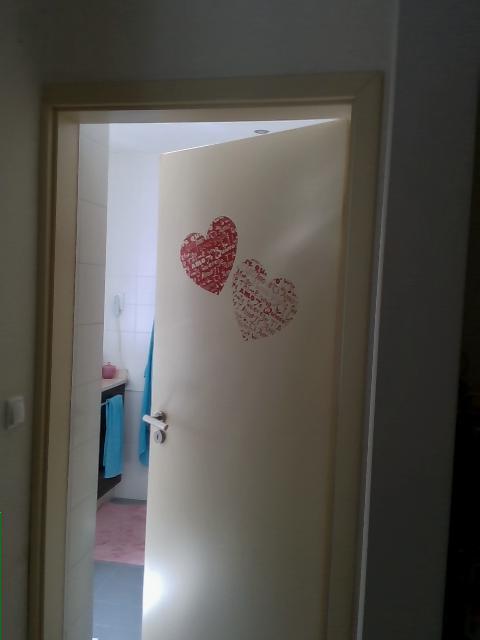semi_door: (27, 70, 386, 639)
